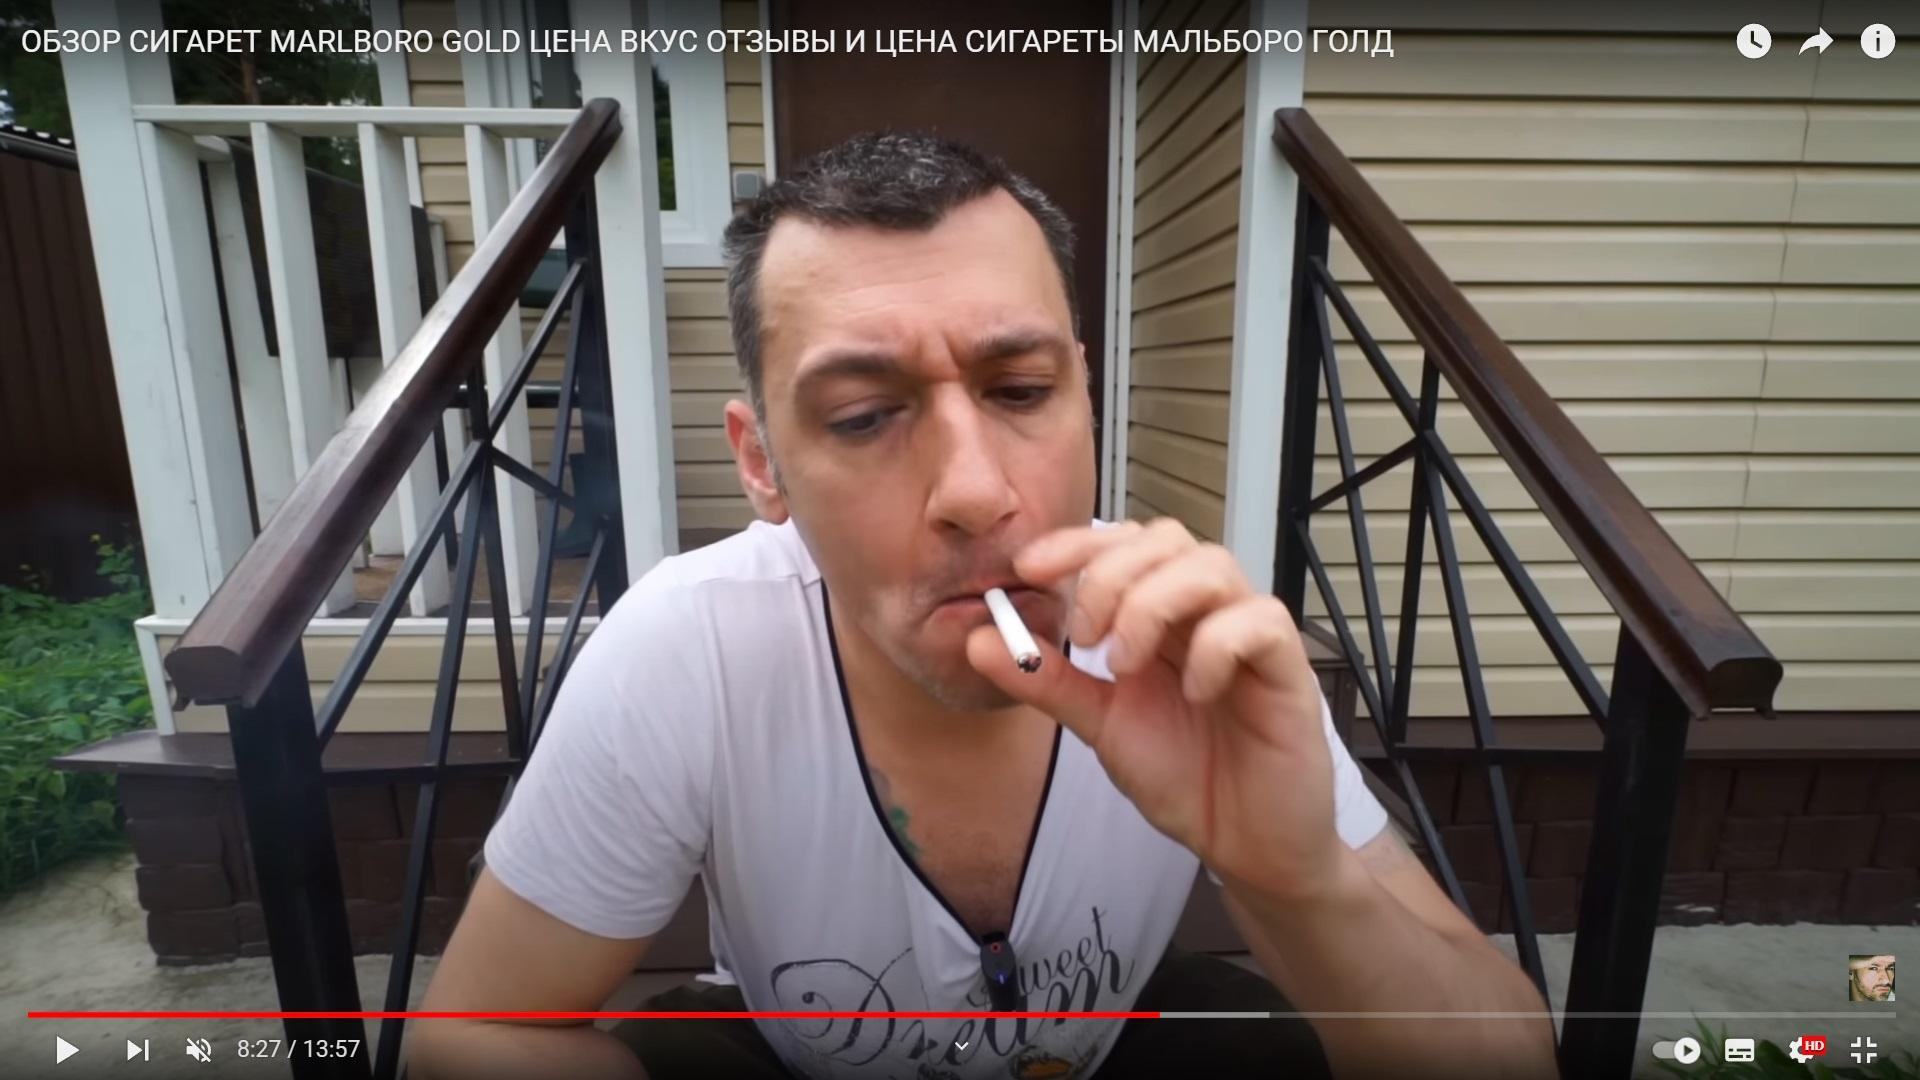cigarette: (982, 587, 1043, 674)
